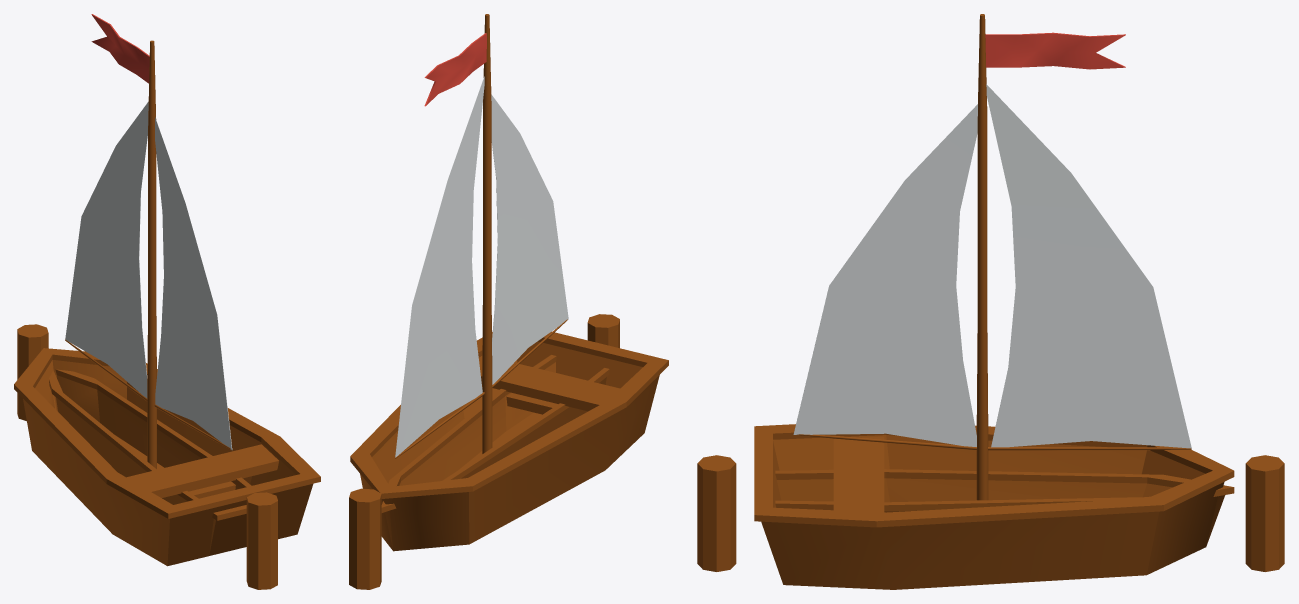
File: dock.glb
The picture shows the model from 3 angles, left to right: view 1: azimuth 30°, elevation 25°; view 2: azimuth 150°, elevation 25°; view 3: azimuth 270°, elevation 25°; orthographic projection. The views are drawn at different scales.
Parts seen in each view (by area): view 1: dock_sailboat, dock_canoe, dock; view 2: dock_sailboat, dock_canoe, dock; view 3: dock_sailboat, dock_canoe, dock.
Part boxes in pixels (box(x1,y1,x2,y2)): dock_sailboat: box(14, 14, 320, 566); dock_canoe: box(49, 369, 251, 555); dock: box(17, 324, 277, 589); dock_sailboat: box(350, 14, 668, 551); dock_canoe: box(381, 355, 609, 549); dock: box(349, 314, 619, 589); dock_sailboat: box(754, 14, 1234, 589); dock_canoe: box(775, 469, 1234, 545); dock: box(697, 455, 1284, 571).
Bounding box in the file's own units: 1.61 × 4.07 × 3.95.
